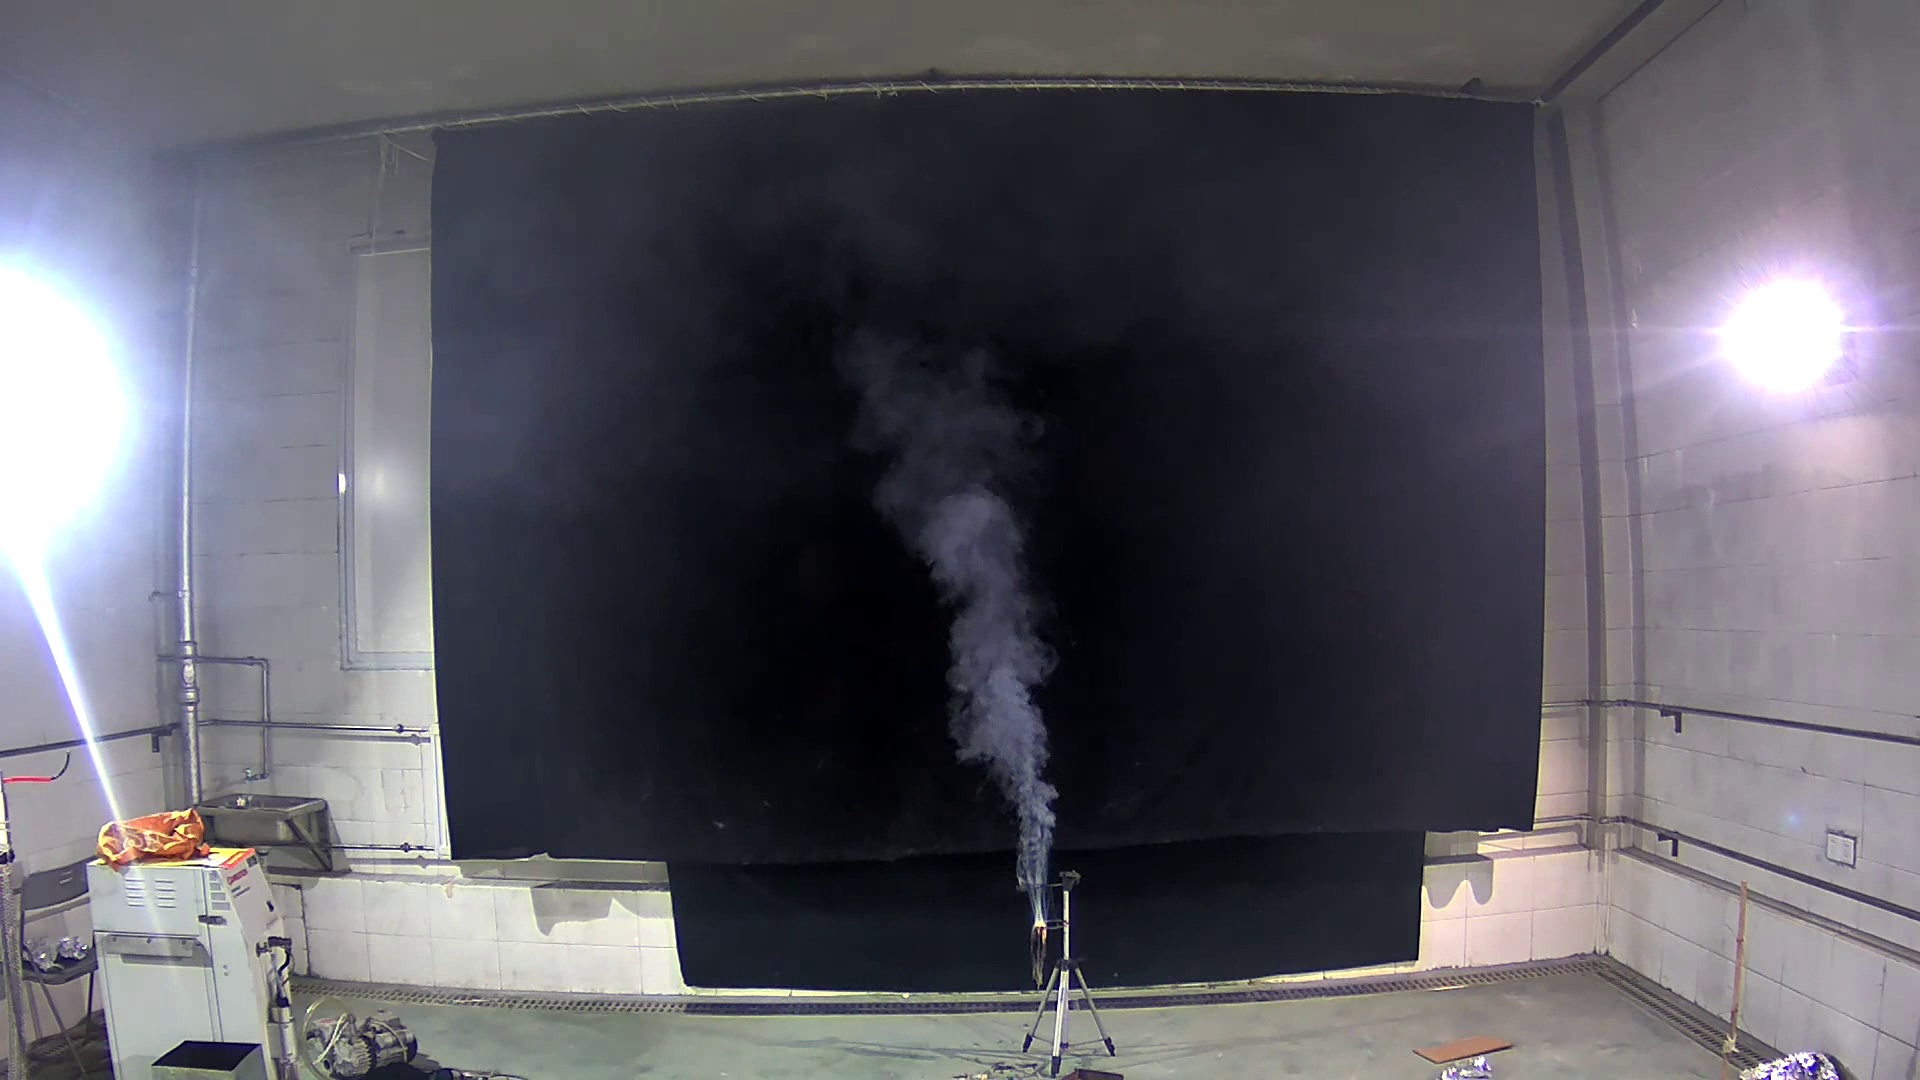smoke: (840, 326, 1063, 872)
